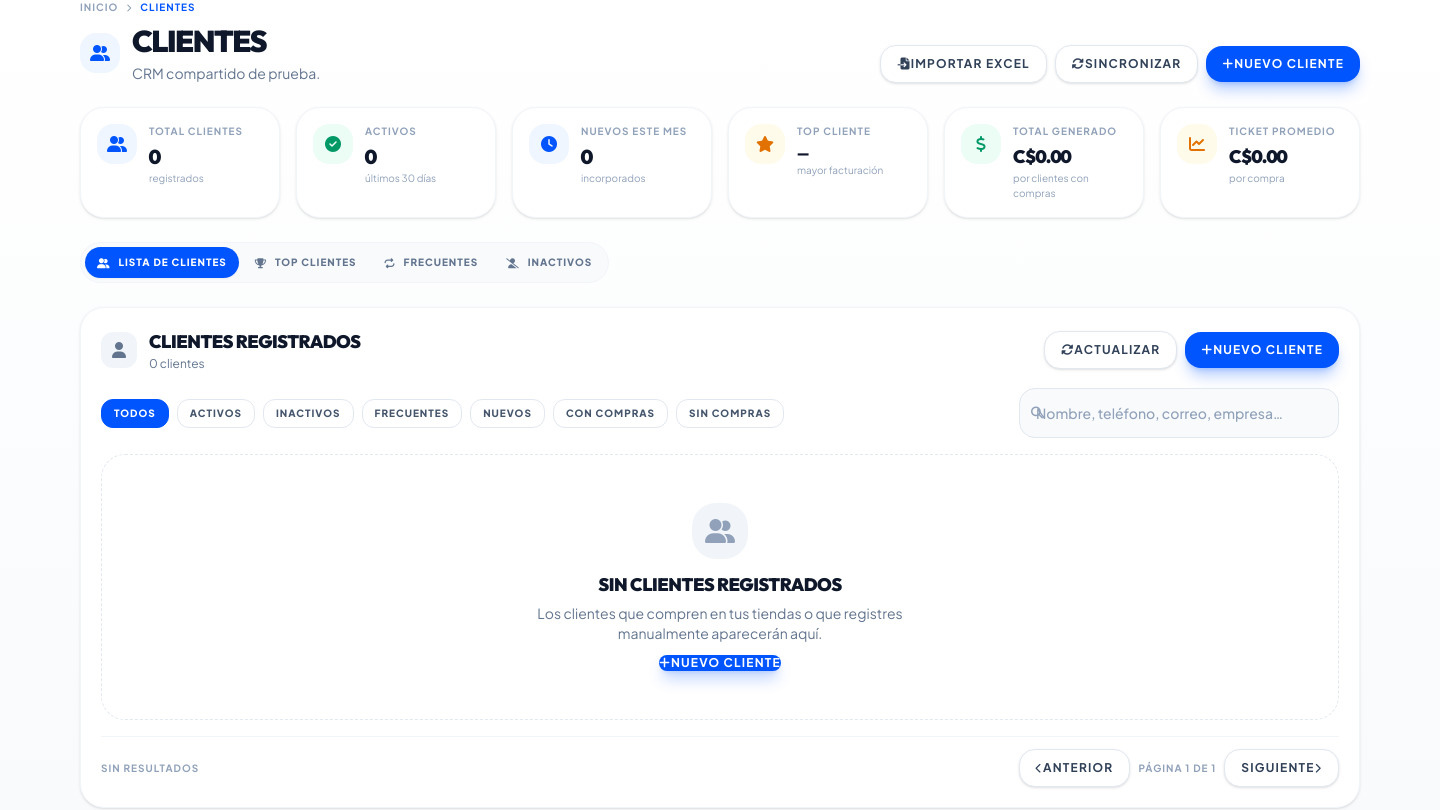
Test: ClientsPageComponent › debe mantener el modal abierto y mostrar el error de duplicado
Click the button with test id "clients-new" at {"x": 1283, "y": 64}, box [1206,46,1360,82]
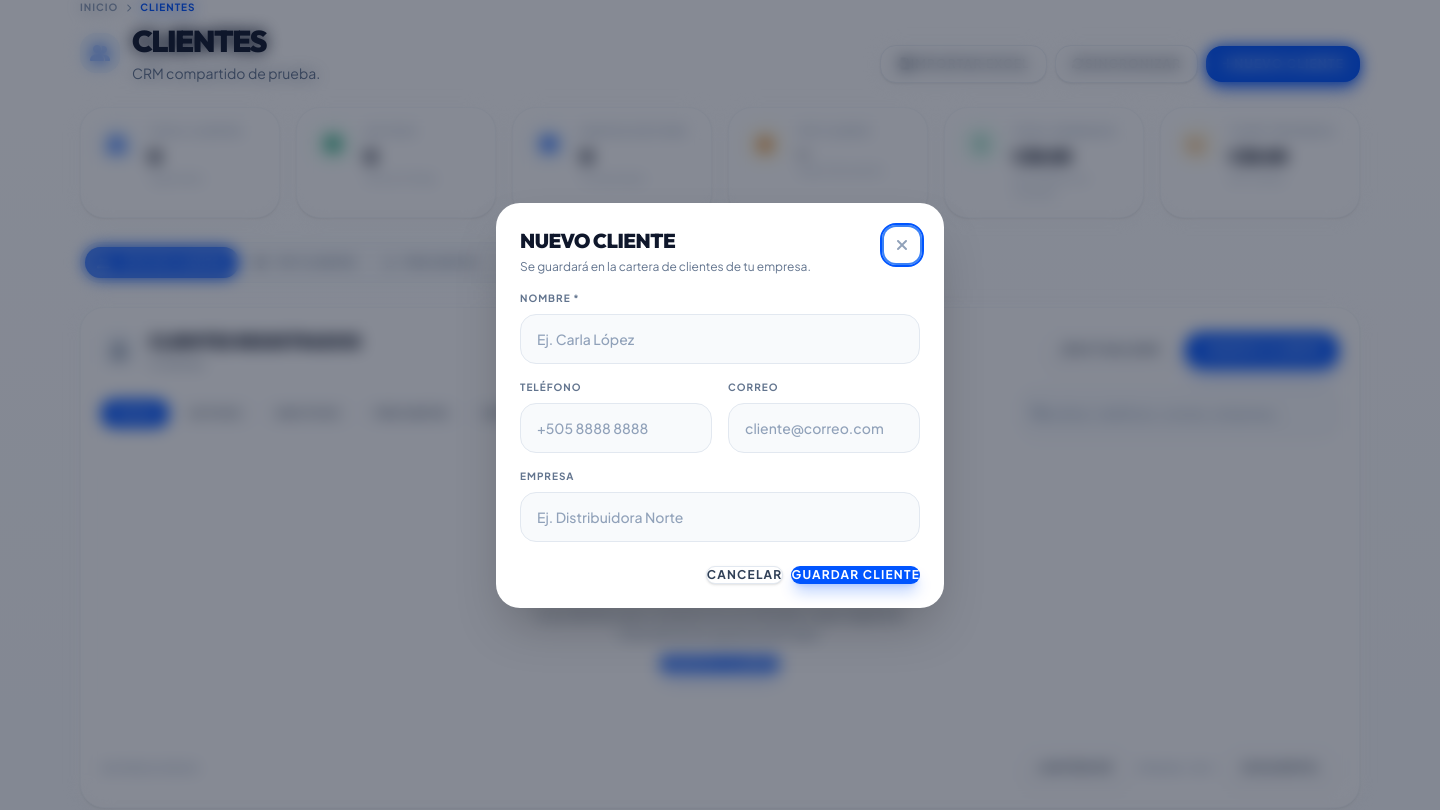
Type "Pedro Ruiz" into the field labelled "Nombre *" at {"x": 720, "y": 338}, box [520,314,920,364]
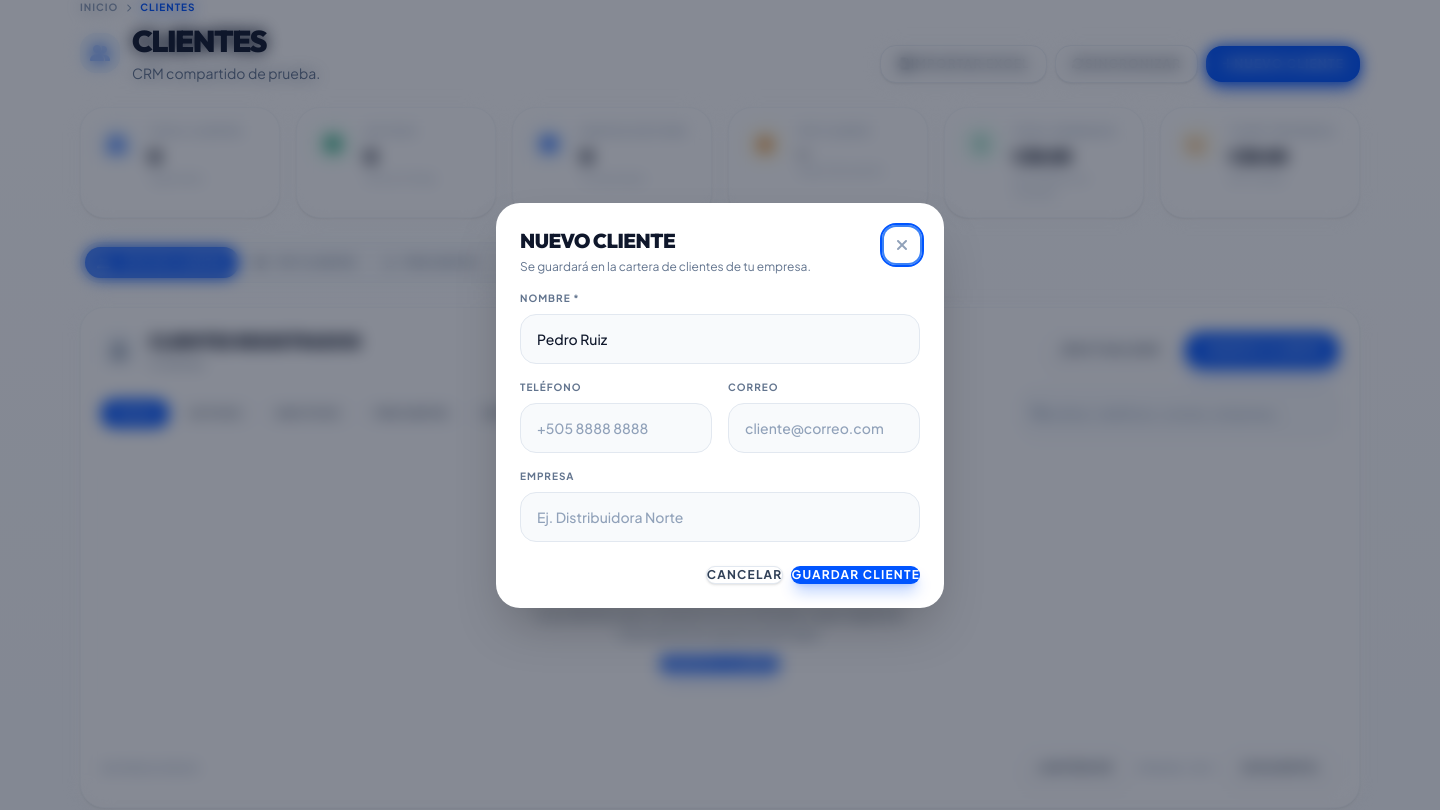
Submit the form, box [520,290,920,584]
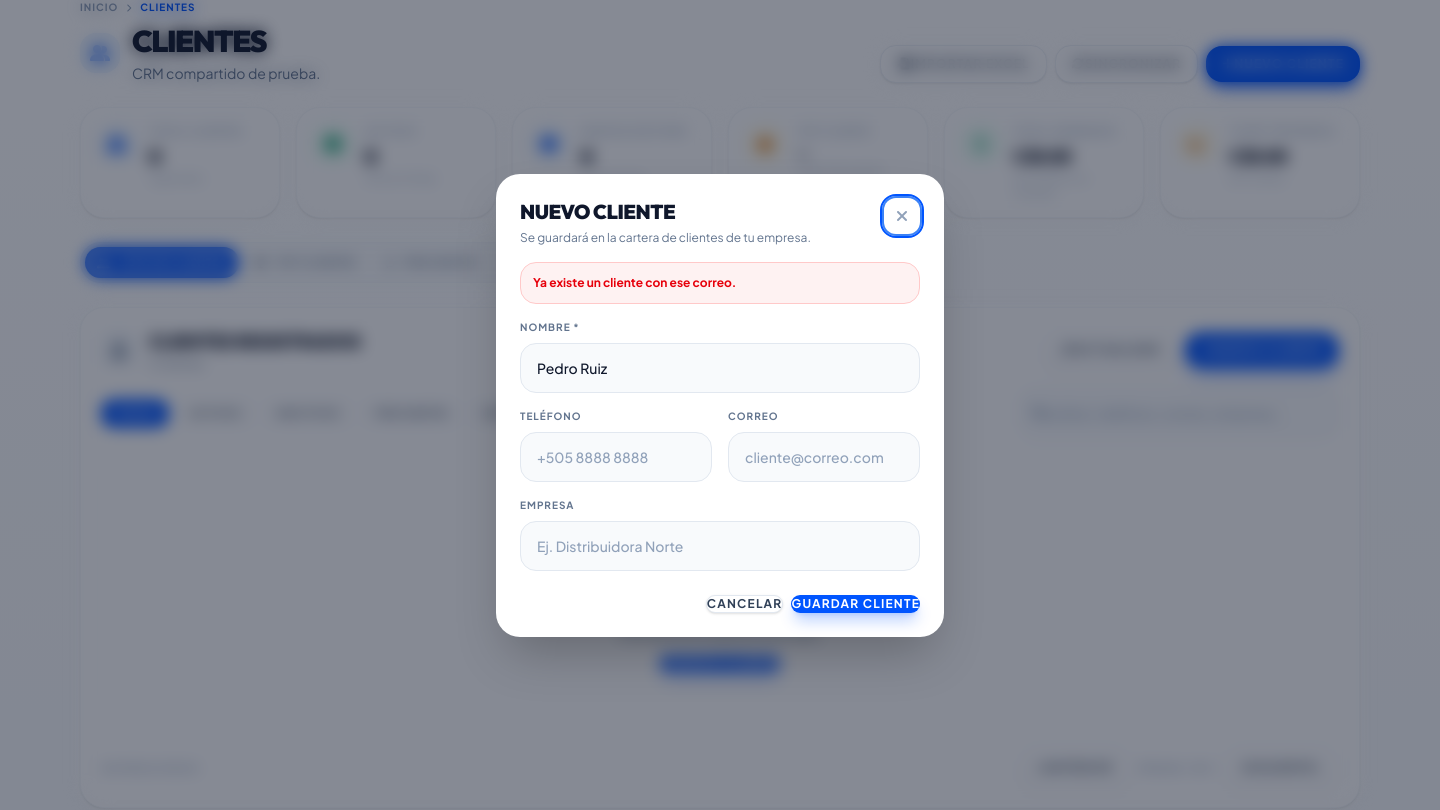
Expected: the dialog with test id "client-dialog" is shown, [496,174,944,636]
Expected: the message with test id "client-modal-error" reads "Ya existe un cliente con ese correo.", [533,274,736,290]
